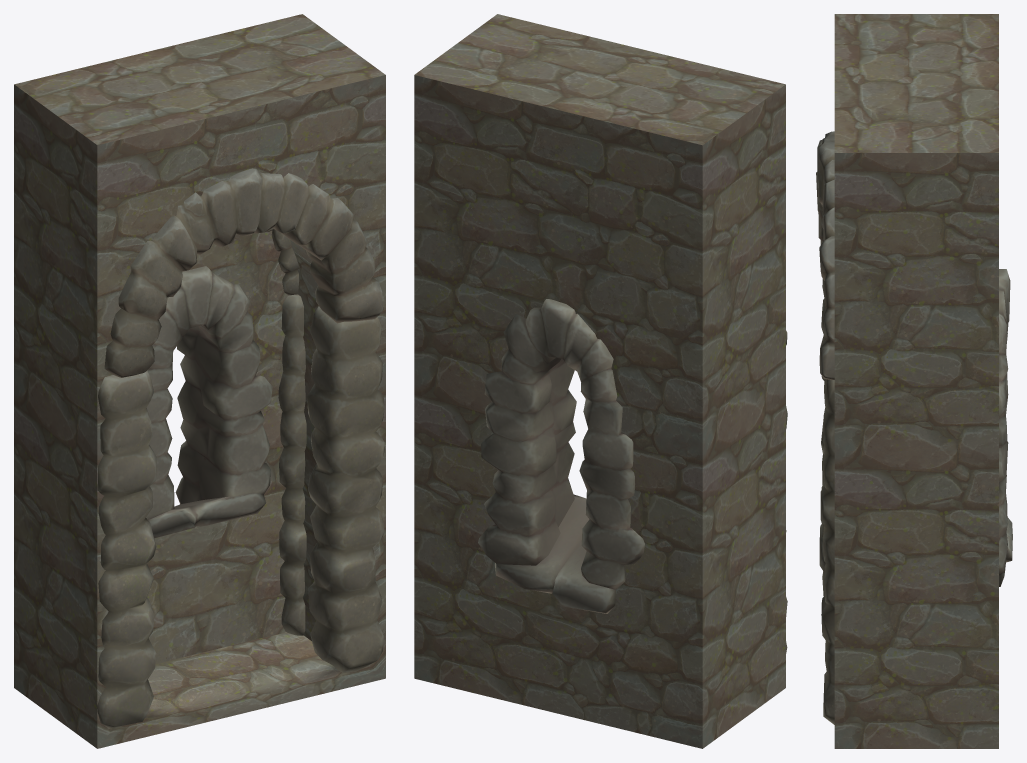
Rendered from MSH_fwOF_Ruins_Wall_Window_Half_01.fbx.
3 views of the same model, side by side, from view 1: azimuth 30°, elevation 25°; view 2: azimuth 150°, elevation 25°; view 3: azimuth 270°, elevation 25° (orthographic).
Visible parts, largest first — view 1: MSH_fwOF_Ruins_Wall_Window_Half_01_Base, MSH_fwOF_Ruins_Wall_Window_Half_01_LOD0; view 2: MSH_fwOF_Ruins_Wall_Window_Half_01_Base, MSH_fwOF_Ruins_Wall_Window_Half_01_LOD0; view 3: MSH_fwOF_Ruins_Wall_Window_Half_01_Base, MSH_fwOF_Ruins_Wall_Window_Half_01_LOD0.
Part boxes in pixels (left/top/right/bottom): MSH_fwOF_Ruins_Wall_Window_Half_01_Base: left=14, top=14, right=385, bottom=748; MSH_fwOF_Ruins_Wall_Window_Half_01_LOD0: left=91, top=168, right=384, bottom=728; MSH_fwOF_Ruins_Wall_Window_Half_01_Base: left=414, top=14, right=785, bottom=748; MSH_fwOF_Ruins_Wall_Window_Half_01_LOD0: left=478, top=299, right=787, bottom=653; MSH_fwOF_Ruins_Wall_Window_Half_01_Base: left=834, top=14, right=998, bottom=748; MSH_fwOF_Ruins_Wall_Window_Half_01_LOD0: left=816, top=131, right=1012, bottom=724.
Size of what is drawn, in the model's own units: 2 by 4 by 1.2.
